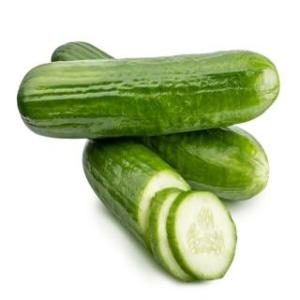cucumber: (16, 48, 282, 138), (82, 138, 189, 260), (138, 128, 272, 202)
